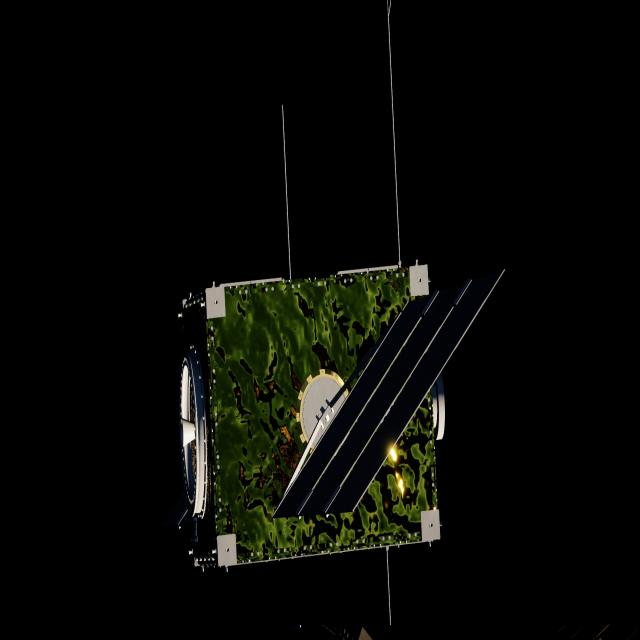satellite: (179, 267, 489, 566)
